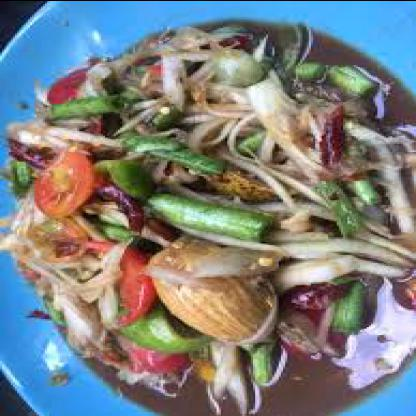Papaya Salad: (11, 1, 415, 408)
